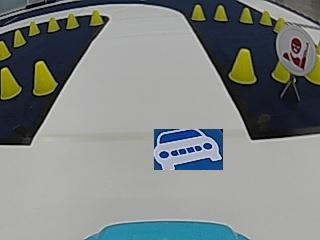evil: (274, 26, 317, 76)
